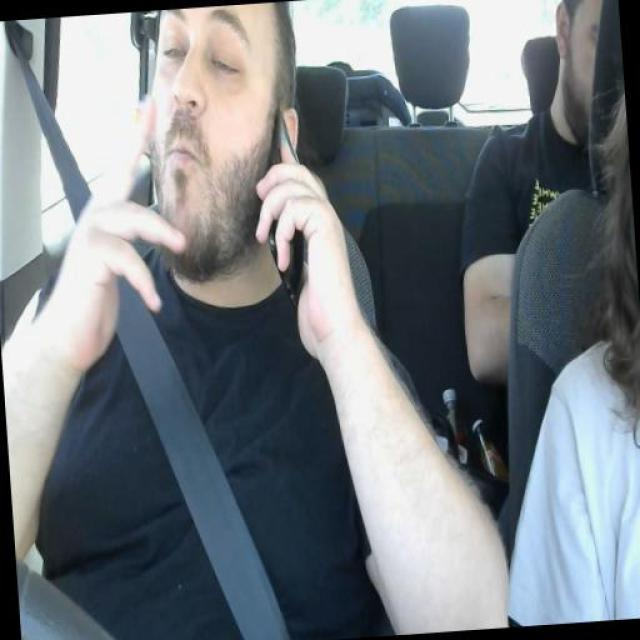phone: (262, 111, 310, 294)
